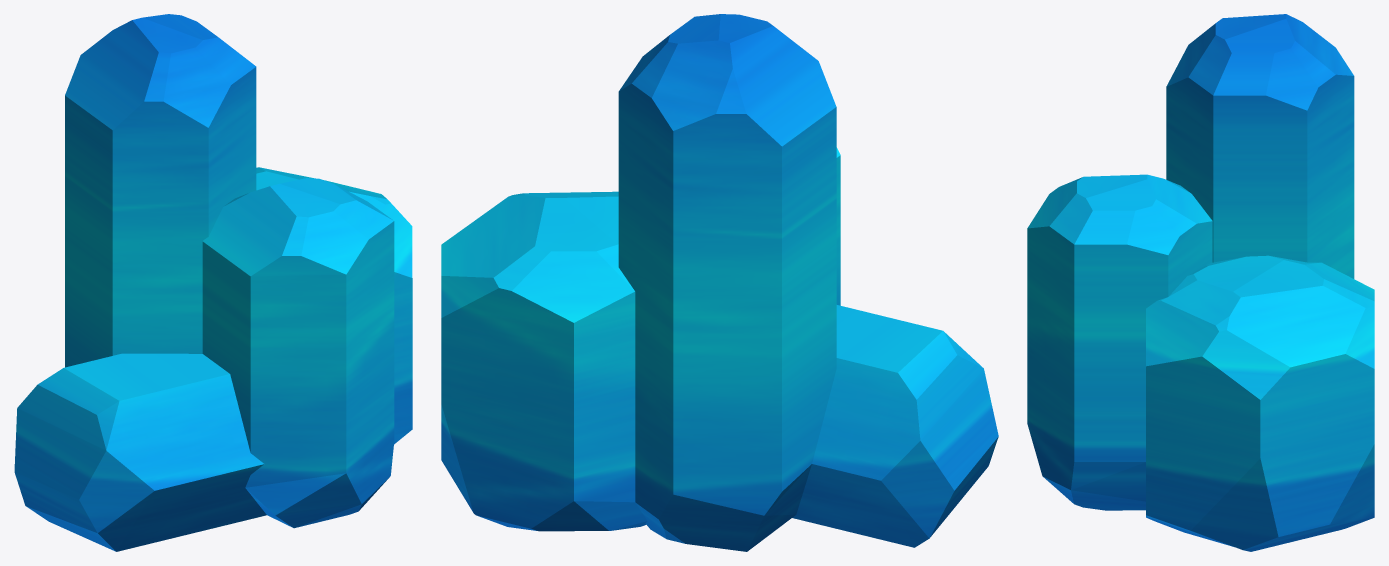
File: Crystal10.obj
3 renders of one model, left to right at view 1: azimuth 30°, elevation 25°; view 2: azimuth 150°, elevation 25°; view 3: azimuth 270°, elevation 25°, orthographic. The views are drawn at different scales.
Visible parts, largest first — view 1: obj1; view 2: obj1; view 3: obj1.
Part boxes in pixels (x1,y1,x2,y2): obj1: [14, 14, 412, 551]; obj1: [441, 14, 998, 551]; obj1: [1027, 14, 1374, 551].
Bounding box in the file's own units: 5.12 × 5.19 × 3.69.
1 material, 1 textured.
